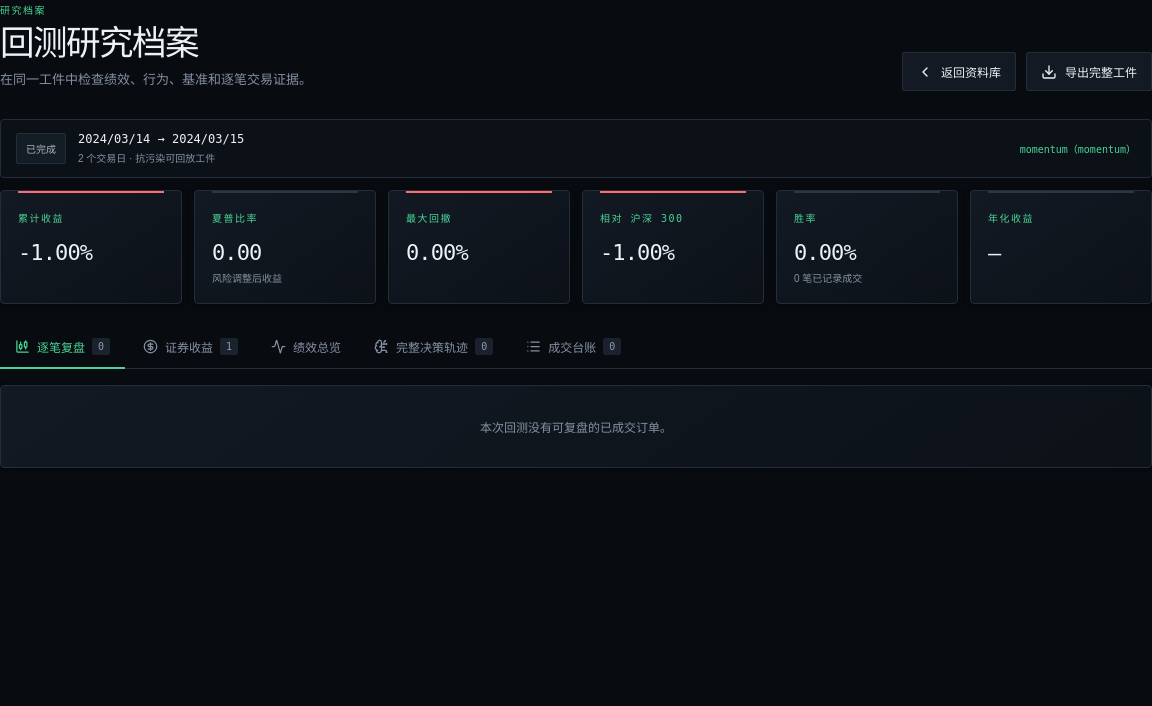
Scenario: Results › shows realized profit aggregated across all trades for the same security
What coordinates should you click on to do the following:
click the button "证券收益 1"
I would click on:
 (190, 348)
Its box is left=128, top=326, right=253, bottom=369.
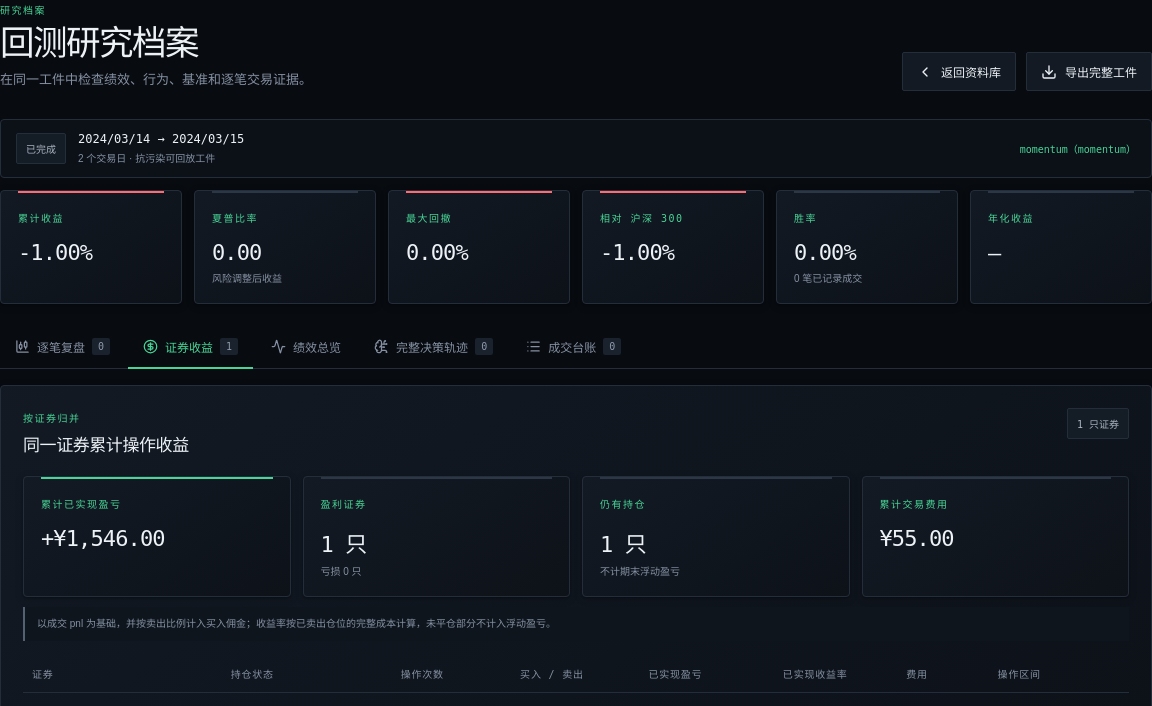
Check: the text "以成交 pnl 为基础，并按卖出比例计入买入佣金；收益率按已卖出仓位的完整成本计算，未平仓部分不计入浮动盈亏。" is shown, box left=23, top=607, right=1129, bottom=641
